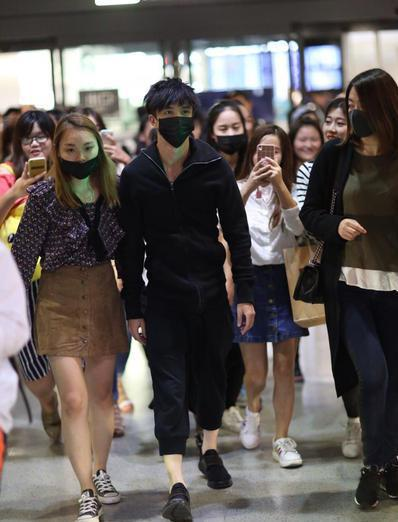NONE: (320, 114, 354, 148), (253, 144, 286, 176), (24, 130, 52, 159), (295, 133, 320, 160)
OK: (154, 103, 196, 145), (349, 95, 385, 136)
WRONG: (59, 139, 99, 179), (214, 118, 247, 153)
